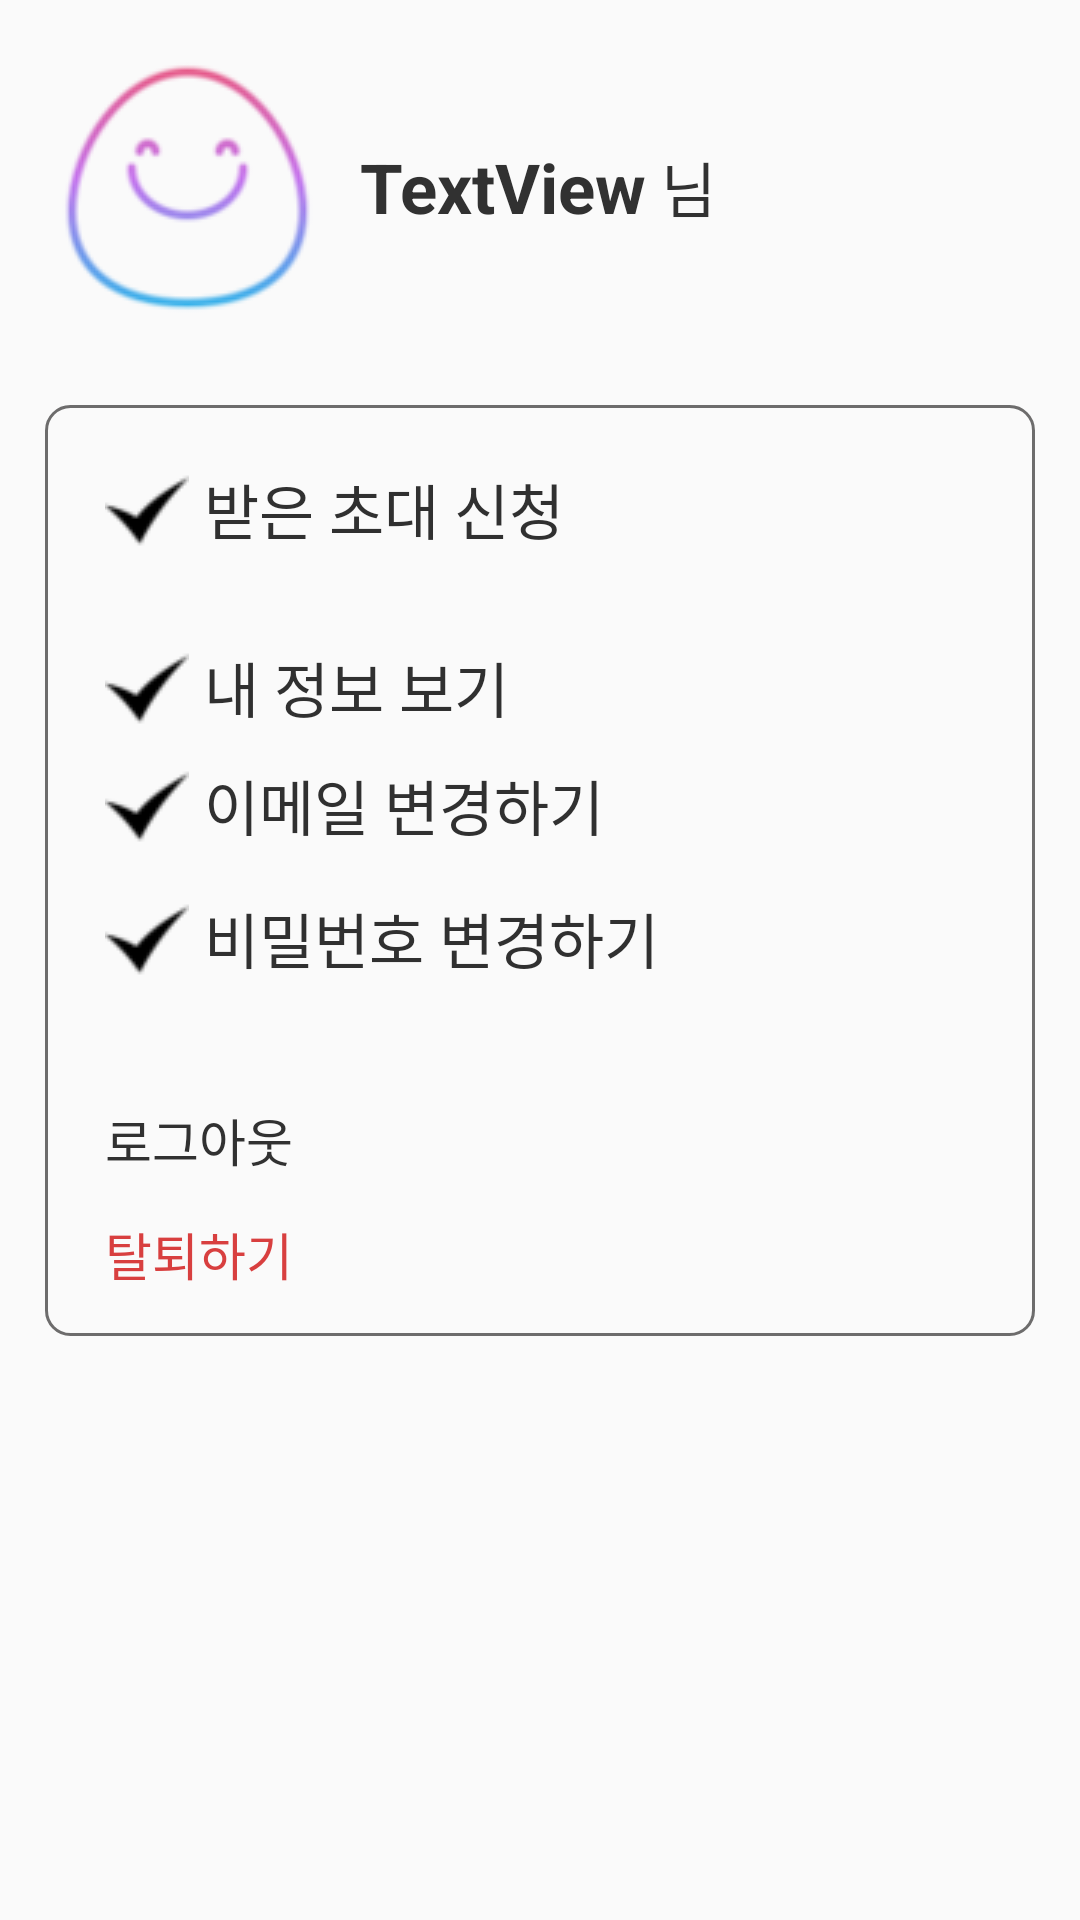

Where to tap for icons on this 1080w x 1920h app screen, as (x=x, y=y):
smile: (x=187, y=188)
